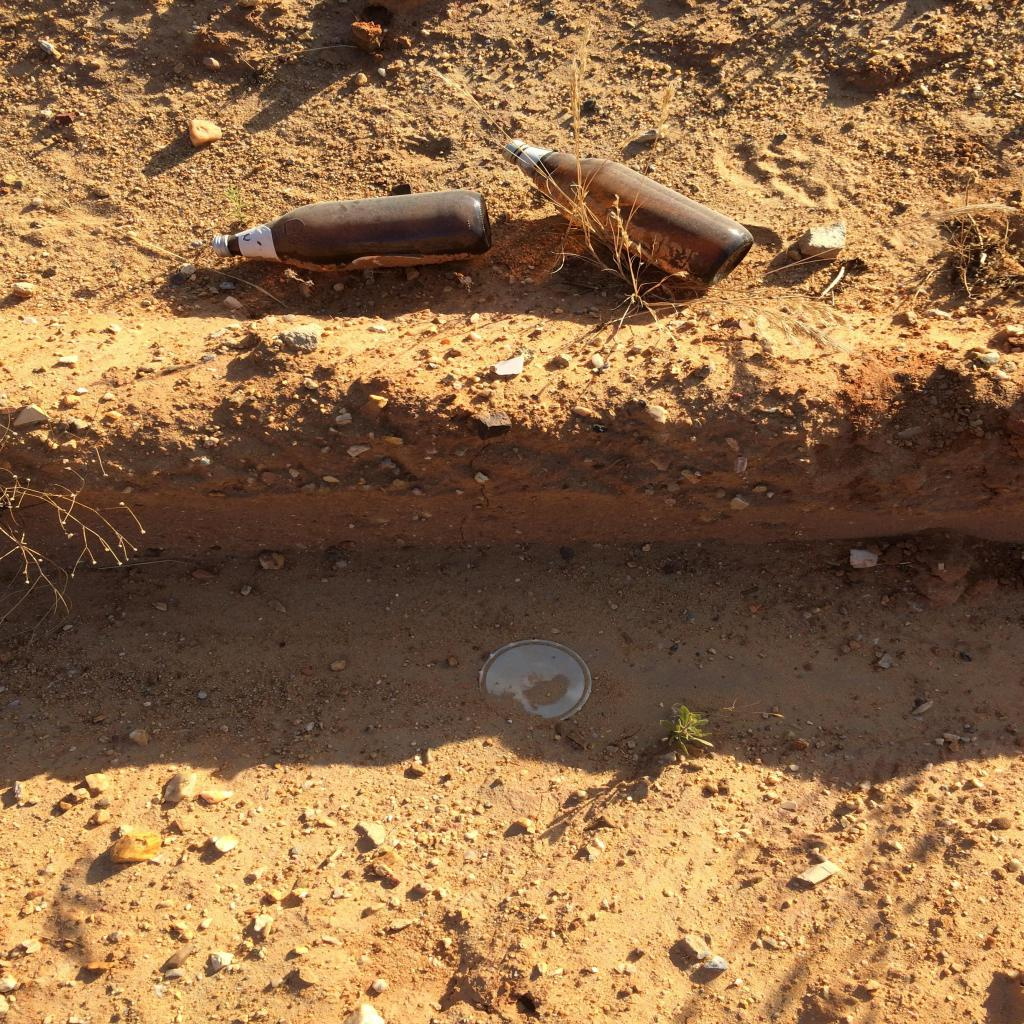Glass bottle: (502, 140, 754, 286), (213, 189, 493, 272)
Metal bottle cap: (500, 140, 524, 162), (213, 236, 227, 258)
Plastic lid: (480, 640, 592, 720)
